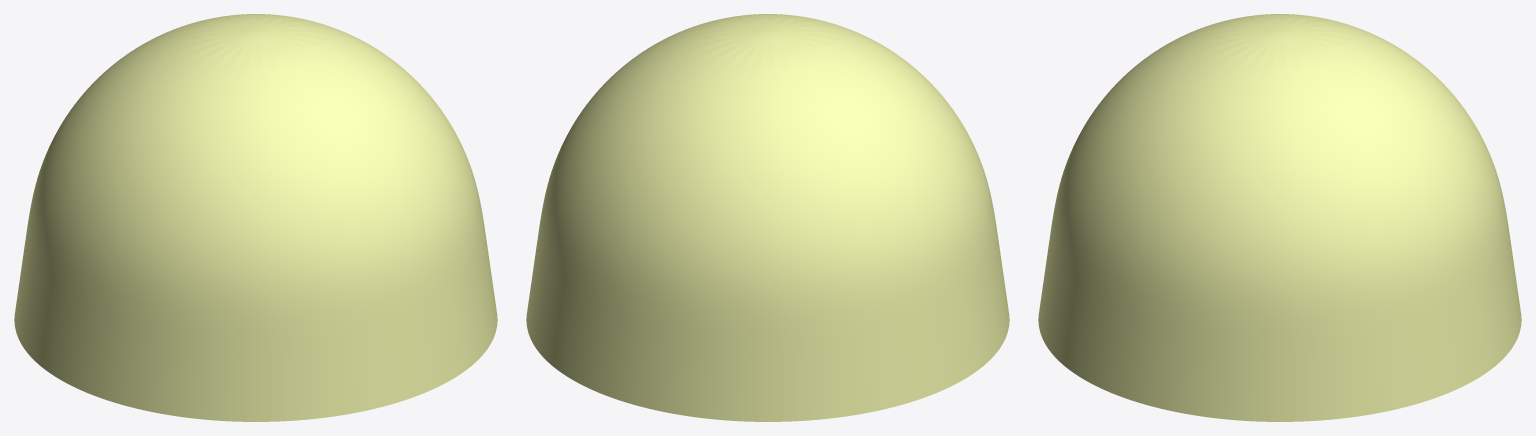
Rendered from Sphere_non_transparend.fbx.
The picture shows the model from 3 angles, left to right: view 1: azimuth 30°, elevation 25°; view 2: azimuth 150°, elevation 25°; view 3: azimuth 270°, elevation 25°; orthographic projection.
Parts seen in each view (by area): view 1: Kugel; view 2: Kugel; view 3: Kugel.
Boxes of the visible parts, x1,y1,x2,y2 form: Kugel: (14, 14, 497, 421); Kugel: (526, 14, 1009, 421); Kugel: (1038, 14, 1521, 421).
Bounding box in the file's own units: 735 × 480 × 735.
